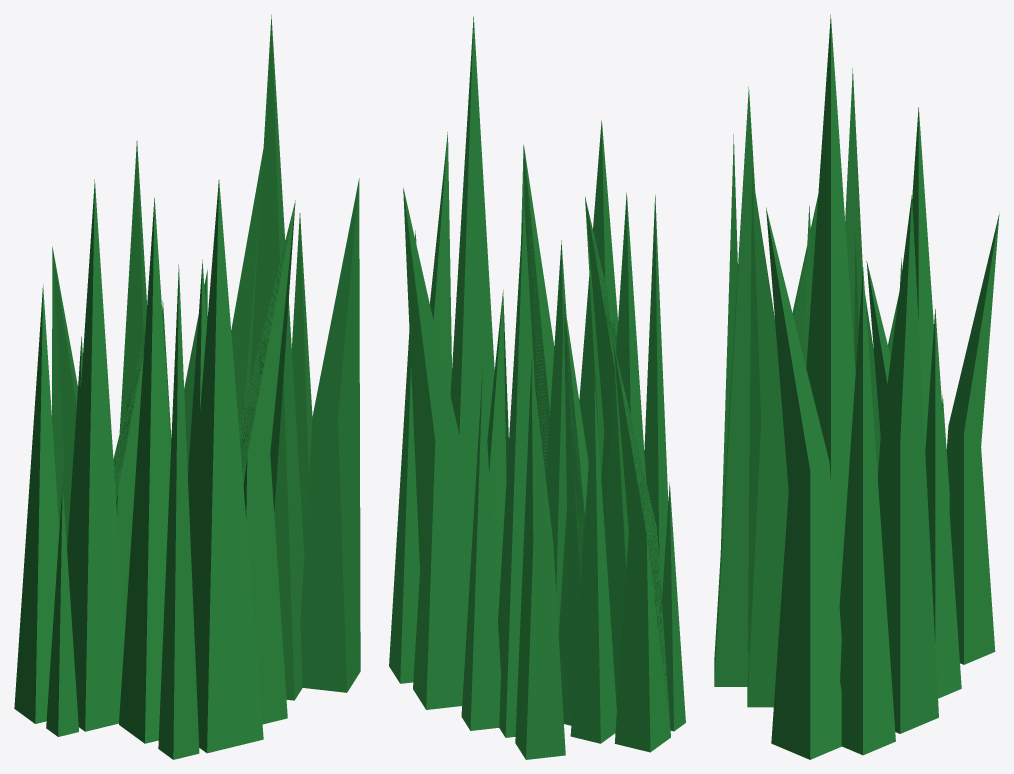
The model's file is Grass2.fbx.
The picture shows the model from 3 angles, left to right: view 1: azimuth 30°, elevation 25°; view 2: azimuth 150°, elevation 25°; view 3: azimuth 270°, elevation 25°; orthographic projection. The views are drawn at different scales.
Visible parts, largest first — view 1: Grass2; view 2: Grass2; view 3: Grass2.
Part boxes in pixels (x1=…): Grass2: x1=14, y1=14, x2=360, y2=759; Grass2: x1=389, y1=16, x2=685, y2=759; Grass2: x1=714, y1=14, x2=999, y2=759.
Bounding box in the file's own units: 455 × 978 × 358.
